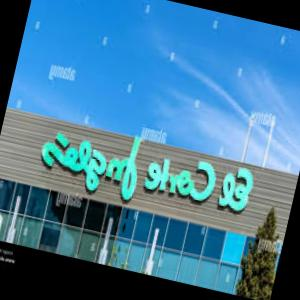corte_ingles: (32, 119, 258, 230)
